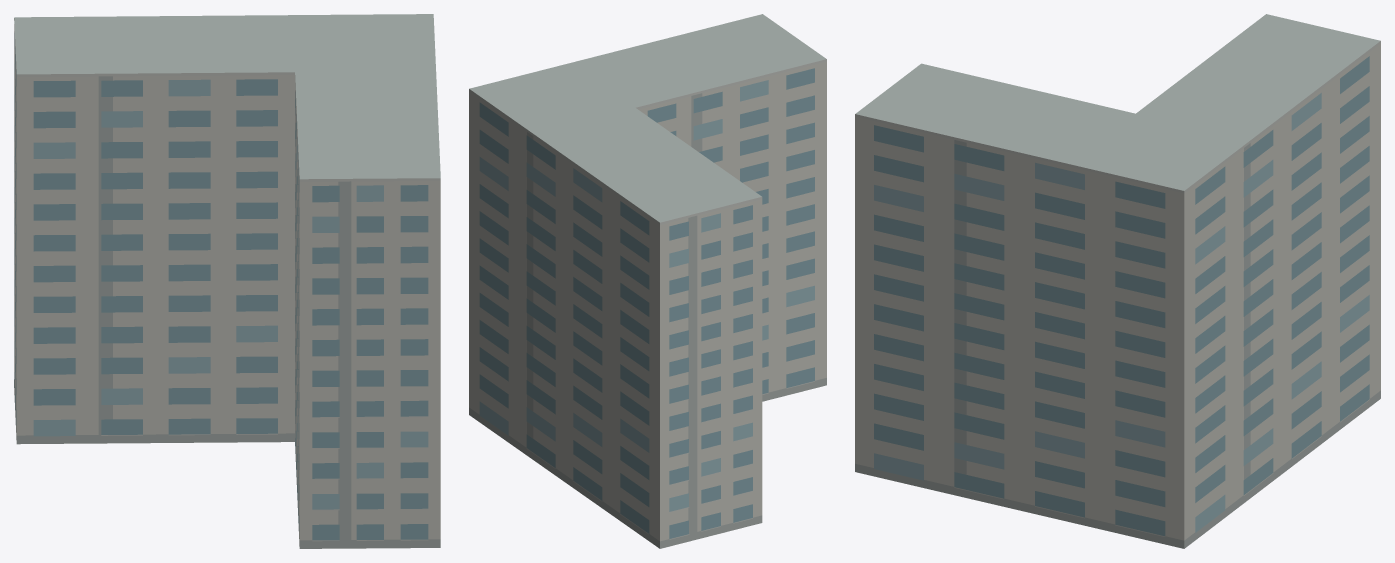
The model's file is residential-c19ed734-af43-459a-b345-ba8a37273313.glb.
3 views of the same model, side by side, from view 1: azimuth 30°, elevation 25°; view 2: azimuth 150°, elevation 25°; view 3: azimuth 270°, elevation 25° (orthographic). The views are drawn at different scales.
Parts seen in each view (by area): view 1: residential-c19ed734-af43-459a-b345-ba8a37273313.tmp; view 2: residential-c19ed734-af43-459a-b345-ba8a37273313.tmp; view 3: residential-c19ed734-af43-459a-b345-ba8a37273313.tmp.
Part boxes in pixels (x1=…): residential-c19ed734-af43-459a-b345-ba8a37273313.tmp: x1=14, y1=14, x2=440, y2=548; residential-c19ed734-af43-459a-b345-ba8a37273313.tmp: x1=469, y1=14, x2=826, y2=548; residential-c19ed734-af43-459a-b345-ba8a37273313.tmp: x1=855, y1=14, x2=1380, y2=548.
Bounding box in the file's own units: 36.06 × 34 × 45.26.
